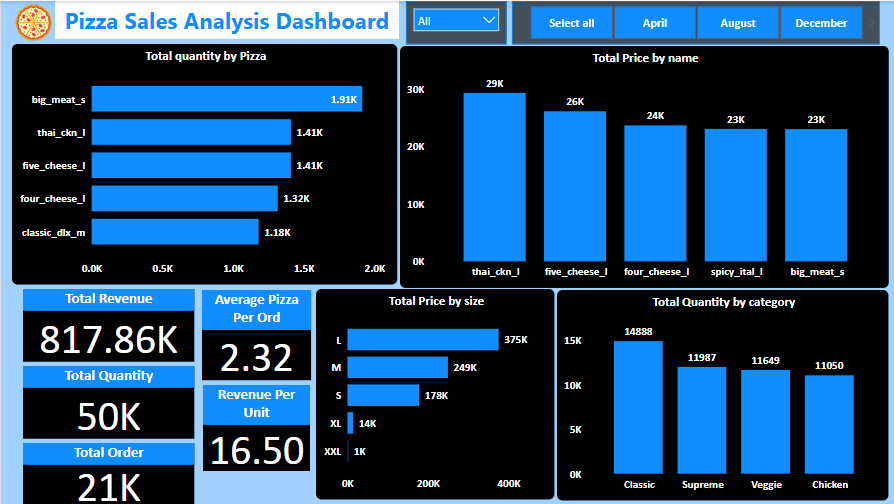

This screenshot's page, from the dashboard's own definition file:
{"tool":"powerbi","page":{"name":"Page 1","canvas":[1280,720],"ordinal":0},"visuals":[{"type":"columnChart","title":"Total Quantity by category","fields":{"Category":["Pizza_Analysis.category"],"Y":["Sum(Pizza_Analysis.quantity)"]},"box":[794.5,413.2,473.7,300.7],"z":0},{"type":"clusteredBarChart","title":"Total Price by size","fields":{"Category":["Pizza_Analysis.size"],"Y":["Measure Table.Total Revenue"]},"box":[450.2,411.5,341,300.7],"z":1000},{"type":"clusteredColumnChart","title":"Total Price by name","fields":{"Category":["Pizza_Analysis.pizza_id"],"Y":["Measure Table.Total Revenue"]},"box":[571.1,63.8,698.8,346],"z":2000},{"type":"clusteredBarChart","title":"Total quantity by Pizza","fields":{"Y":["Sum(Pizza_Analysis.quantity)"],"Category":["Pizza_Analysis.pizza_id"]},"box":[15.1,62.2,551,344.4],"z":3000},{"type":"card","title":"Total Revenue","fields":{"Values":["Measure Table.Total Revenue"]},"box":[31.9,411.5,245.2,104.1],"z":4000},{"type":"card","title":"Total Quantity","fields":{"Values":["Sum(Pizza_Analysis.quantity)"]},"box":[31.9,522.4,245.2,104.1],"z":5000},{"type":"textbox","box":[77.3,0,492.2,53.8],"z":6000},{"type":"slicer","fields":{"Values":["Pizza_Analysis.date"]},"box":[730.7,0,525.8,62.2],"z":7000},{"type":"slicer","fields":{"Values":["Pizza_Analysis.category"]},"box":[579.5,0,144.5,62.2],"z":8000},{"type":"image","box":[15.1,0,62.2,62.2],"z":9000},{"type":"card","title":"Total Order","fields":{"Values":["Measure Table.Total Orders"]},"box":[31.9,631.6,245.2,89],"z":10000},{"type":"card","title":"Average Pizza Per Ord","fields":{"Values":["Measure Table.Avg Pizzas per Order"]},"box":[287.2,413.2,156.2,129.3],"z":11000},{"type":"card","title":"Revenue Per Unit","fields":{"Values":["Measure Table.Revenue per Unit"]},"box":[288.9,549.3,152.9,122.6],"z":12000}]}

Visuals, with their boxes in screenshot pixels (x1, y1, x2, y2), scaled from the page's 1280x720 canvas onto the 894x504 screenshot:
"Total Quantity by category" columnChart: l=555, t=289, r=886, b=500
"Total Price by size" clusteredBarChart: l=314, t=288, r=553, b=499
"Total Price by name" clusteredColumnChart: l=399, t=45, r=887, b=287
"Total quantity by Pizza" clusteredBarChart: l=11, t=44, r=395, b=285
"Total Revenue" card: l=22, t=288, r=194, b=361
"Total Quantity" card: l=22, t=366, r=194, b=439
textbox: l=54, t=0, r=398, b=38
slicer - Pizza_Analysis.date: l=510, t=0, r=878, b=44
slicer - Pizza_Analysis.category: l=405, t=0, r=506, b=44
image: l=11, t=0, r=54, b=44
"Total Order" card: l=22, t=442, r=194, b=503
"Average Pizza Per Ord" card: l=201, t=289, r=310, b=380
"Revenue Per Unit" card: l=202, t=385, r=309, b=470
